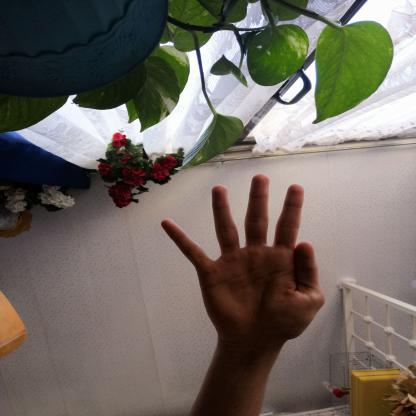SHEEN: (149, 166, 336, 350)
